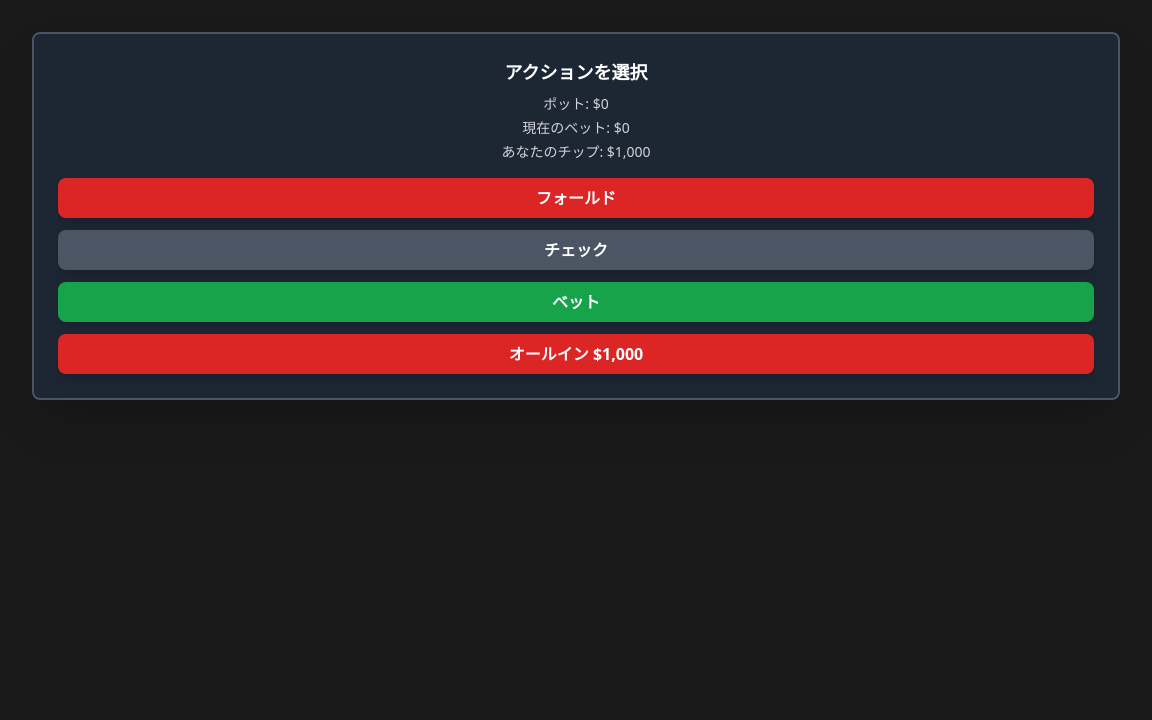
BettingActions › プリセットボタンが正しく表示される
Click the button "ベット": (576, 302) [58, 282, 1094, 322]
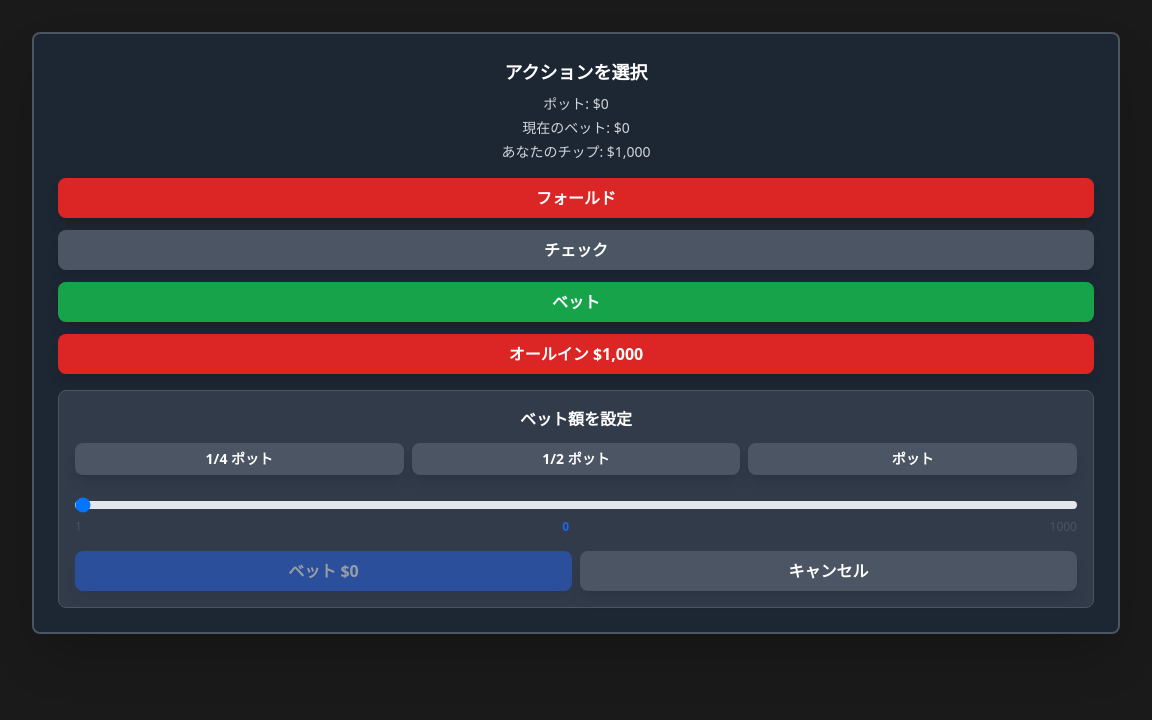
Check: the button "1/4 ポット" is shown, box [75, 443, 404, 475]
Check: the button "1/2 ポット" is shown, box [412, 443, 740, 475]
Check: the button "ポット" is shown, box [748, 443, 1077, 475]
